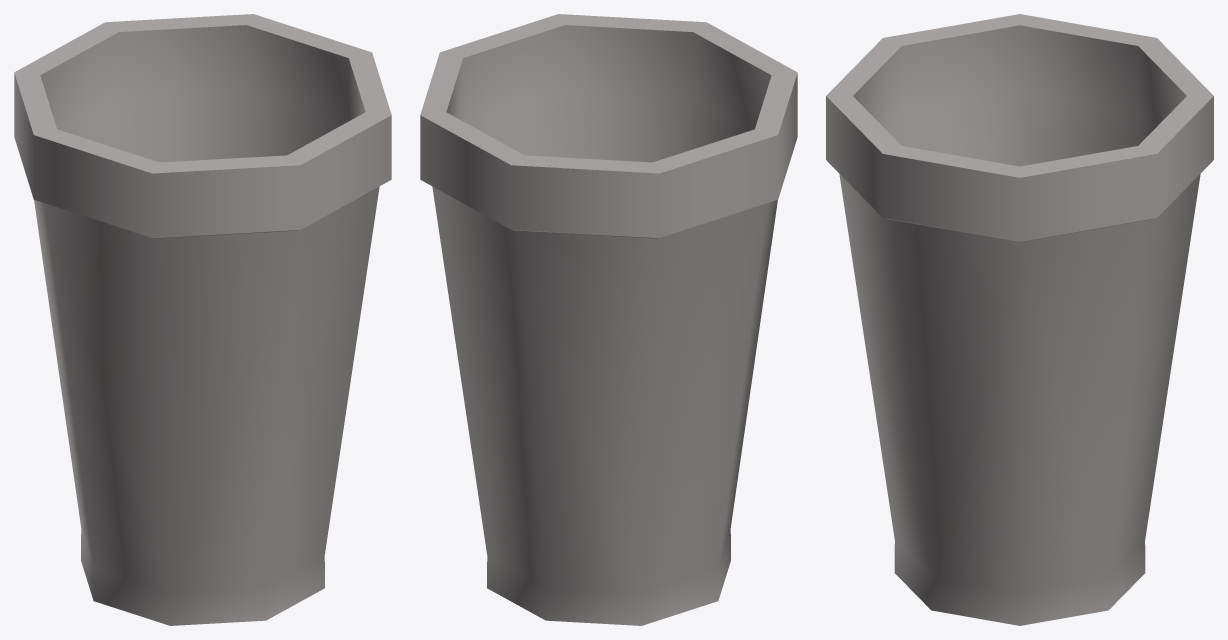
File: SM_Prop_Cup_Styrofoam_01.obj
3 renders of one model, left to right at view 1: azimuth 30°, elevation 25°; view 2: azimuth 150°, elevation 25°; view 3: azimuth 270°, elevation 25°, orthographic.
Visible parts, largest first — view 1: SM_Prop_Cup_Styrofoam_01_Mat_SwatchOverlay_PolygonOffice_01_Inst; view 2: SM_Prop_Cup_Styrofoam_01_Mat_SwatchOverlay_PolygonOffice_01_Inst; view 3: SM_Prop_Cup_Styrofoam_01_Mat_SwatchOverlay_PolygonOffice_01_Inst.
Boxes of the visible parts, <box> form: SM_Prop_Cup_Styrofoam_01_Mat_SwatchOverlay_PolygonOffice_01_Inst: <box>14,14,391,625</box>; SM_Prop_Cup_Styrofoam_01_Mat_SwatchOverlay_PolygonOffice_01_Inst: <box>420,14,797,625</box>; SM_Prop_Cup_Styrofoam_01_Mat_SwatchOverlay_PolygonOffice_01_Inst: <box>826,14,1213,625</box>.
Bounding box in the file's own units: 0.1236 × 0.1677 × 0.1236.
1 material, 1 textured.
